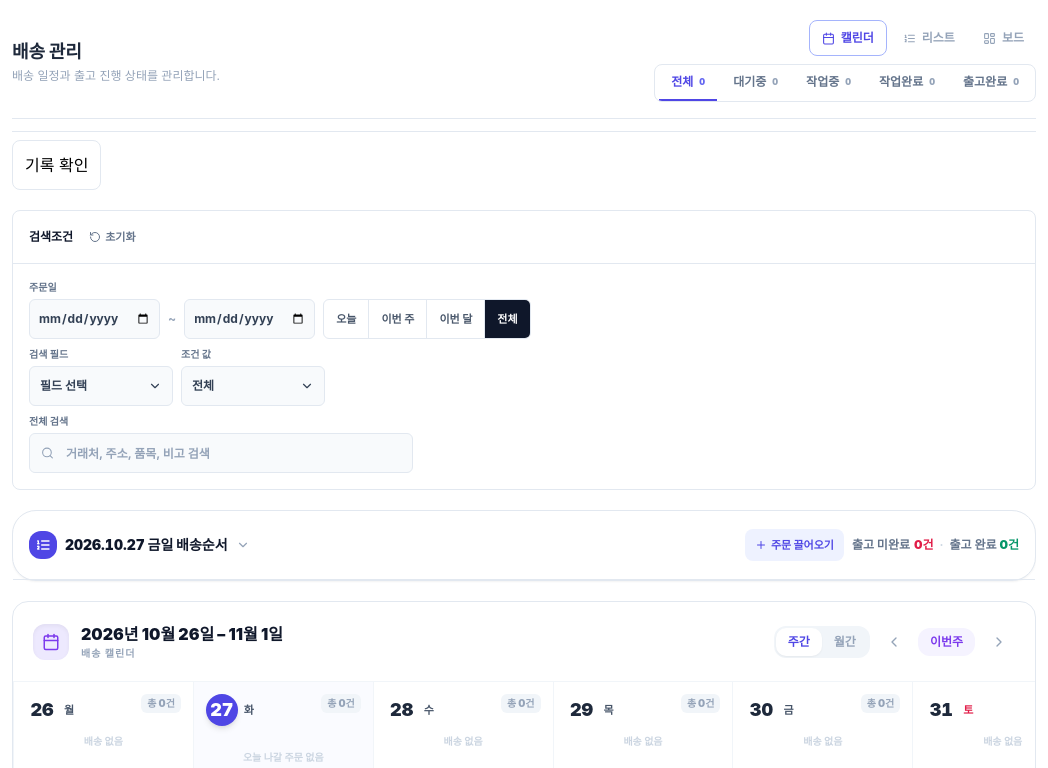
Test case: 제목·보기·상태·복구·검색·금일 업무를 한 순서로 두고 중복 제목은 없다
The width and height of the screenshot is (1048, 768).
Expected: the number of headings "배송 관리" is 1, [12,41,82,62]
Click the button "보드" at (1003, 38), box [971,20,1036,56]
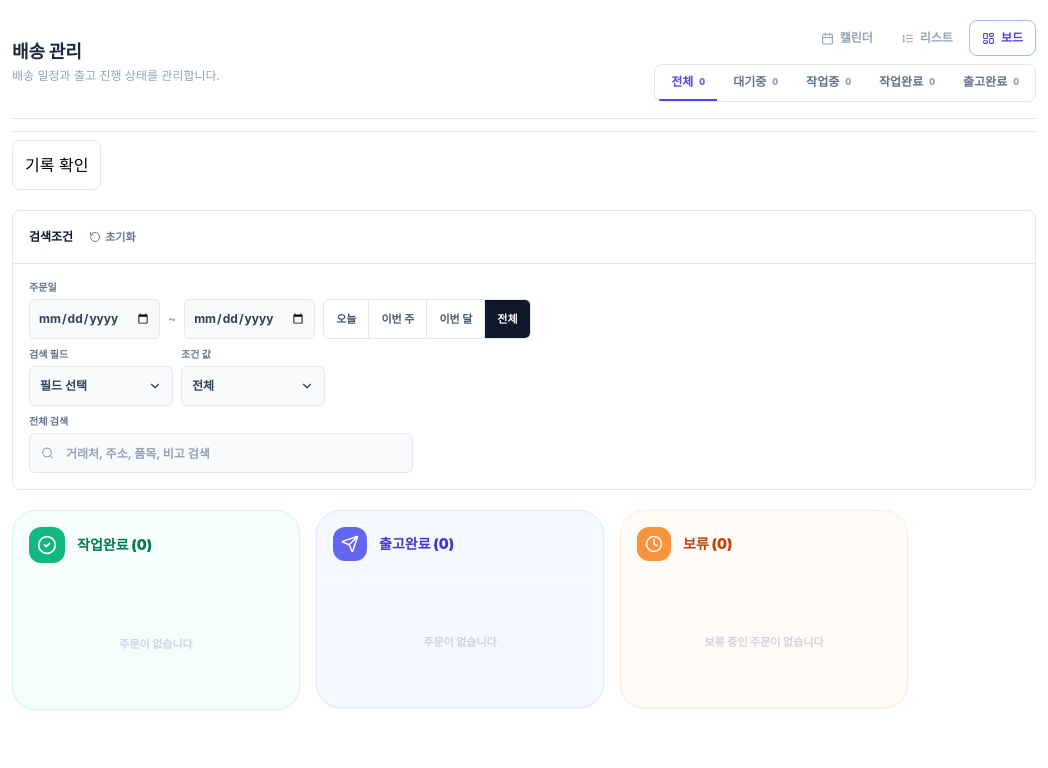
Expected: the button "금일 배송순서" is gone
